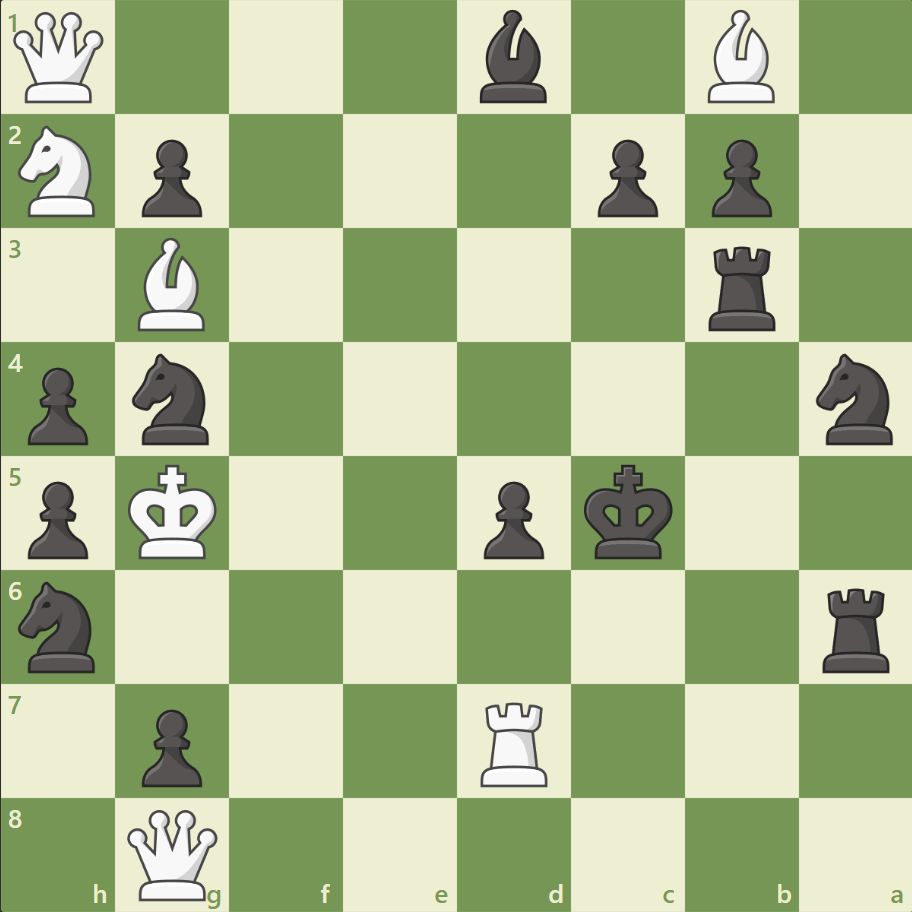B: (131, 233, 215, 336), (698, 6, 782, 109)
K: (124, 458, 224, 566)
N: (11, 121, 108, 223)
Q: (124, 804, 223, 903), (10, 9, 109, 108)
R: (473, 693, 556, 790)
b: (471, 6, 555, 109)
k: (579, 458, 679, 566)
n: (124, 348, 222, 450), (11, 575, 108, 677), (806, 348, 903, 450)
p: (133, 700, 208, 791), (474, 473, 549, 564), (20, 473, 95, 564), (20, 359, 95, 450), (701, 132, 776, 223), (133, 132, 208, 223), (588, 132, 662, 223)
r: (814, 579, 897, 676), (700, 239, 783, 336)
